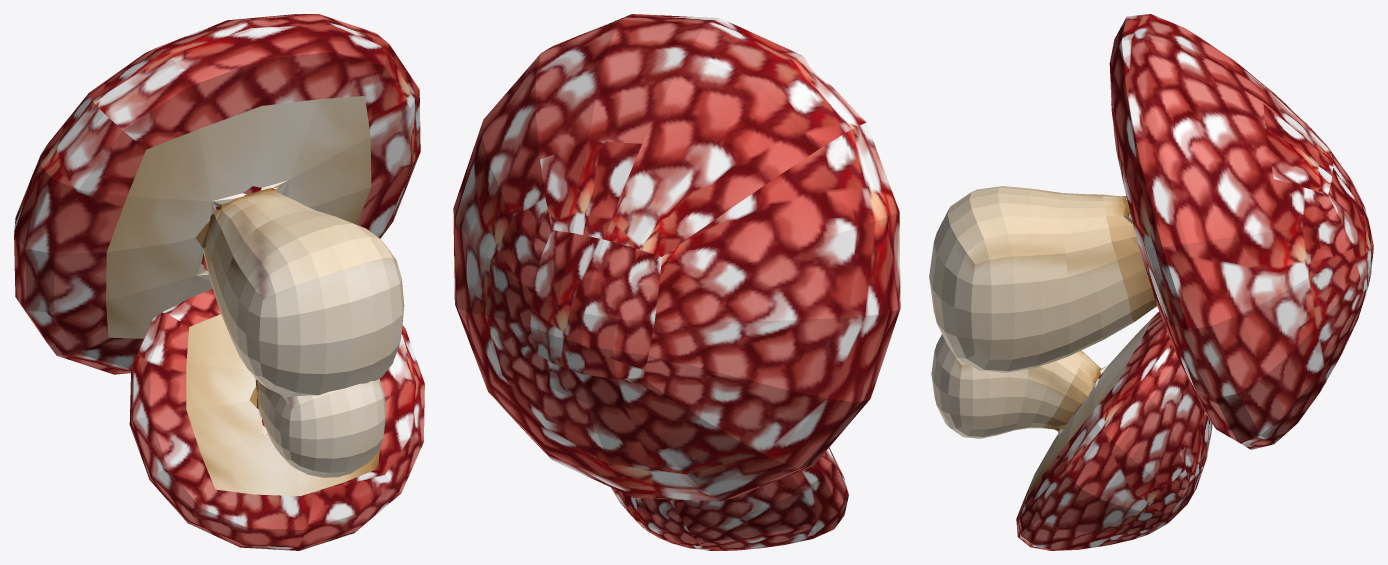
The model's file is Red mushroom 2.fbx.
3 renders of one model, left to right at view 1: azimuth 30°, elevation 25°; view 2: azimuth 150°, elevation 25°; view 3: azimuth 270°, elevation 25°, orthographic. The views are drawn at different scales.
Visible parts, largest first — view 1: Red mushroom 2; view 2: Red mushroom 2; view 3: Red mushroom 2.
Boxes of the visible parts, x1,y1,x2,y2 form: Red mushroom 2: (14,14,424,550); Red mushroom 2: (453,14,900,550); Red mushroom 2: (929,14,1373,550).
Bounding box in the file's own units: 867 × 1037 × 844.
